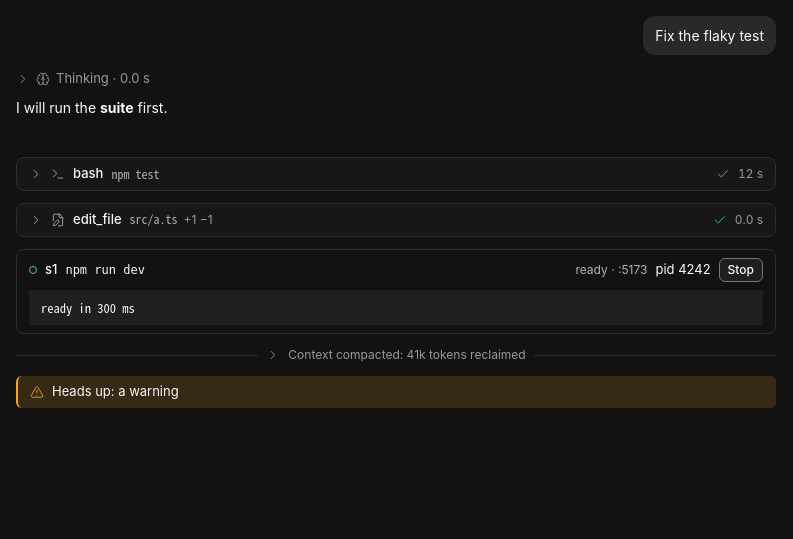
Test: Transcript entry kinds › expands a bash card to its command and ANSI output, and collapses it again
Expected: the text "ok 12 tests passed" is not shown
Click the button "bash npm test 12 s" at [88, 173], box [17,158,775,190]
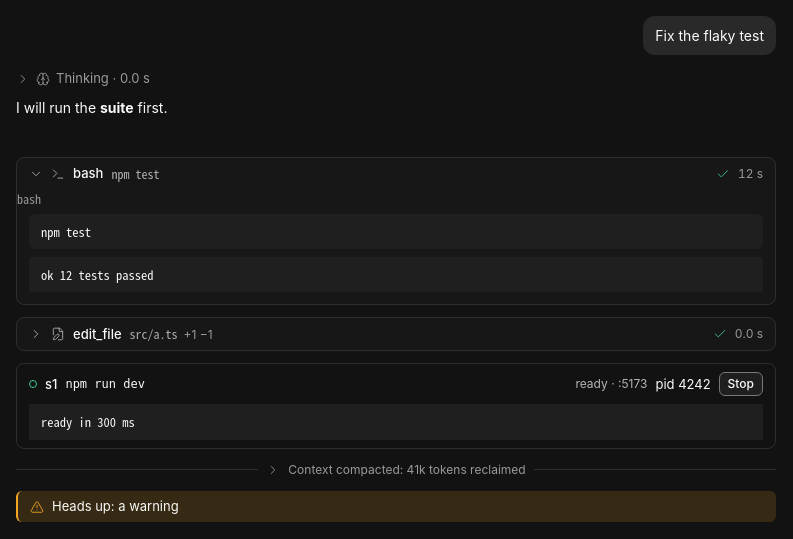
Result: the text "ok 12 tests passed" is shown at [41,265,154,284]
Click the button "bash npm test 12 s" at [88, 173], box [17,158,775,190]
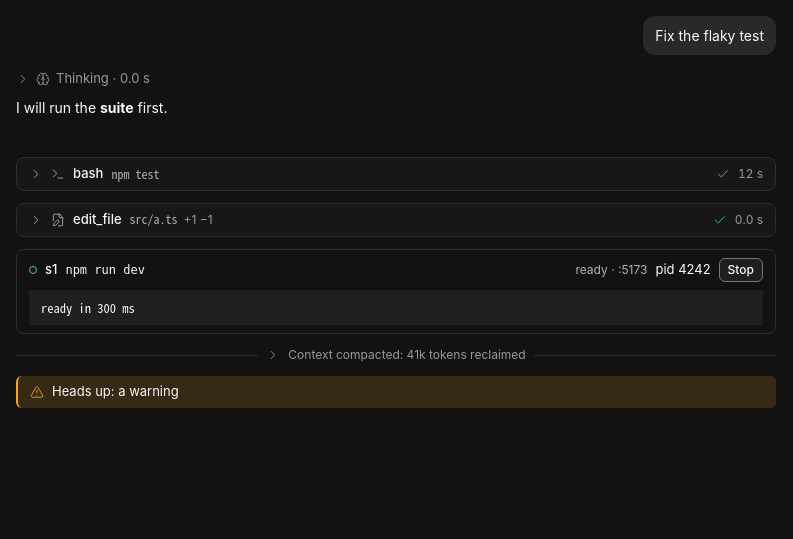
Result: the text "ok 12 tests passed" is gone
